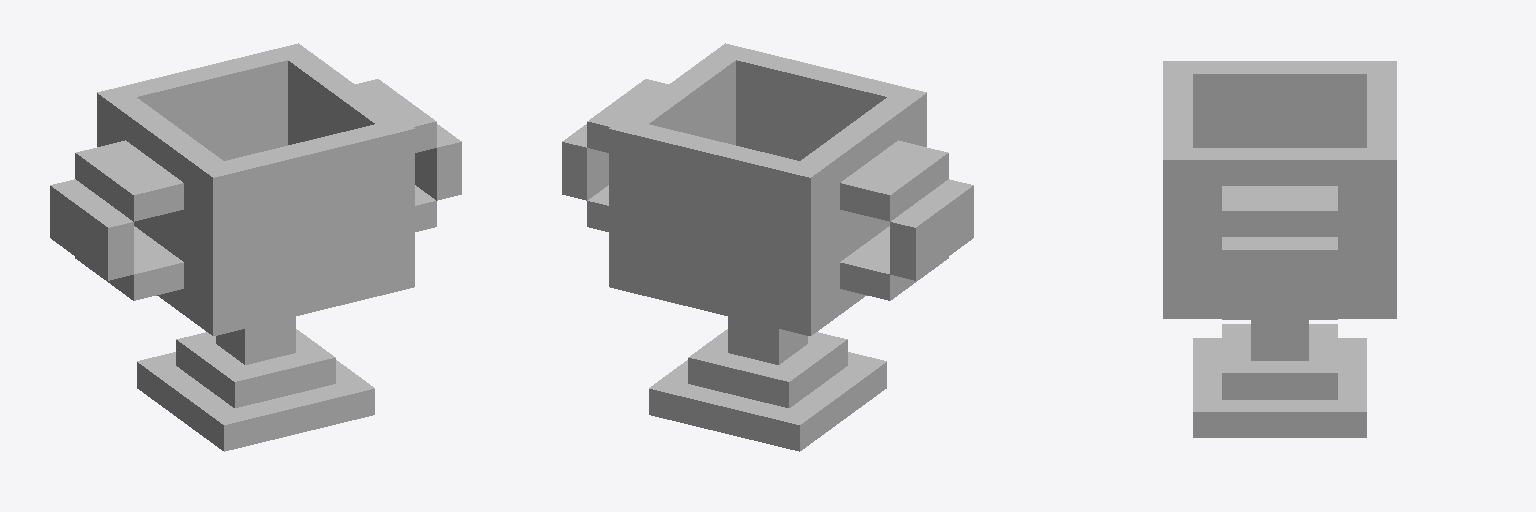
File: trofeu.obj
3 renders of one model, left to right at view 1: azimuth 30°, elevation 25°; view 2: azimuth 150°, elevation 25°; view 3: azimuth 270°, elevation 25°, orthographic.
Visible parts, largest first — view 1: trofeu; view 2: trofeu; view 3: trofeu.
Part boxes in pixels (x1,y1,x2,y2): trofeu: (50,43,461,451); trofeu: (562,43,973,451); trofeu: (1163,61,1396,437).
Bounding box in the file's own units: 14 × 11 × 8.